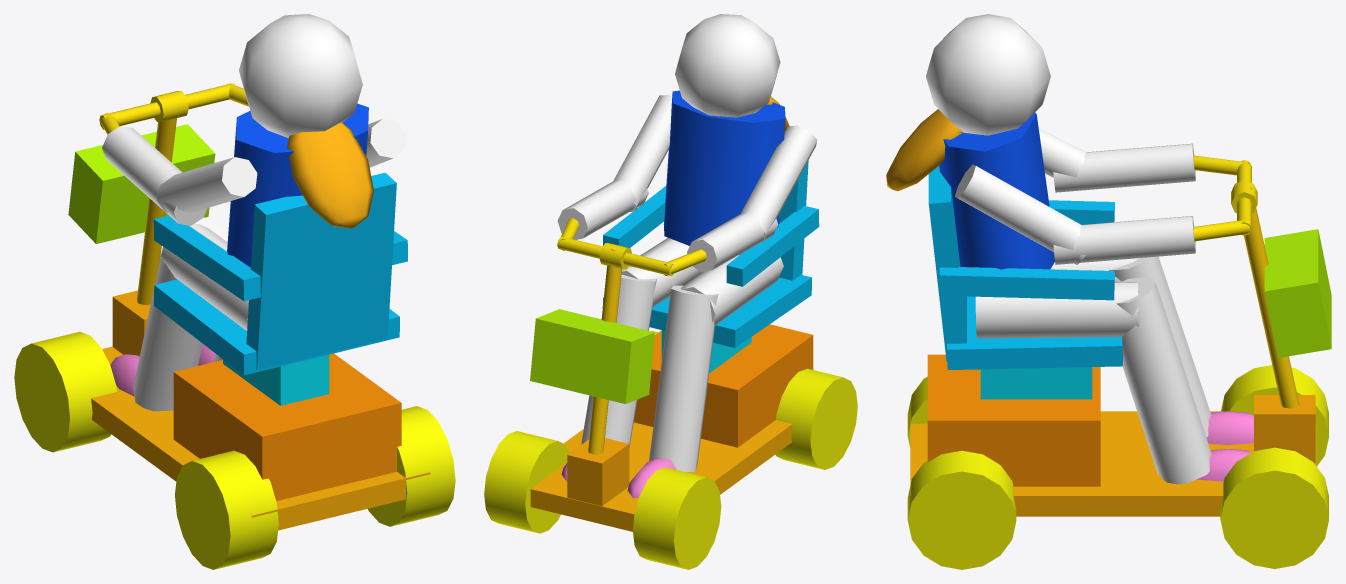
3 renders of one model, left to right at view 1: azimuth 30°, elevation 25°; view 2: azimuth 150°, elevation 25°; view 3: azimuth 270°, elevation 25°, orthographic. The views are drawn at different scales.
Visible parts, largest first — view 1: Box (×8), Cylinder (×13), Sphere (×3); view 2: Cylinder (×17), Box (×9), Sphere (×2); view 3: Cylinder (×17), Box (×9), Sphere (×4).
Part boxes in pixels (box(x1,y1,x2,y2)): Box (×8): box(68, 124, 430, 530); Cylinder (×13): box(14, 83, 455, 569); Sphere (×3): box(110, 14, 373, 396); Cylinder (×17): box(484, 90, 857, 569); Box (×9): box(530, 160, 819, 531); Sphere (×2): box(627, 14, 780, 498); Cylinder (×17): box(907, 112, 1328, 569); Box (×9): box(910, 166, 1331, 516); Sphere (×4): box(886, 14, 1253, 481).
Size of the model in its own units: 0.6234 by 1.35 by 1.1.
